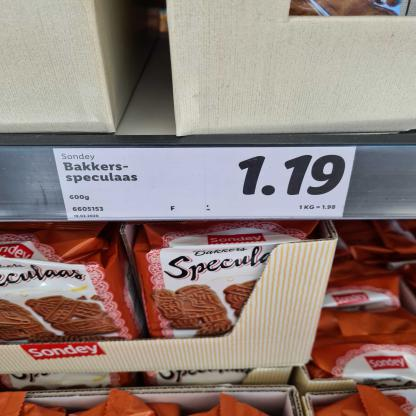prtg: (53, 147, 358, 221)
